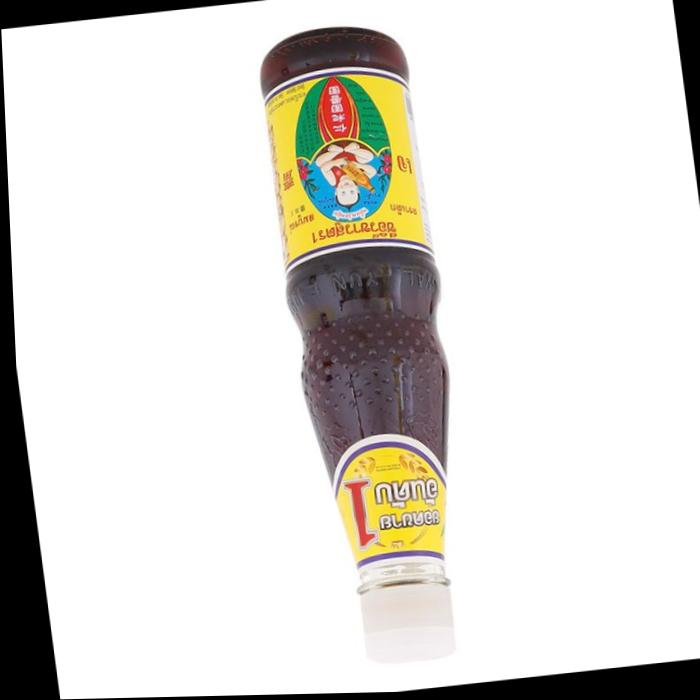glass: (261, 27, 454, 662)
